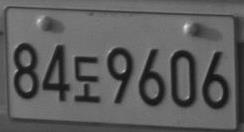0: (170, 48, 197, 108)
4: (42, 44, 71, 101)
6: (137, 48, 166, 107), (202, 51, 229, 110)
8: (12, 41, 39, 100)
9: (106, 46, 133, 104)
도: (73, 55, 100, 103)
